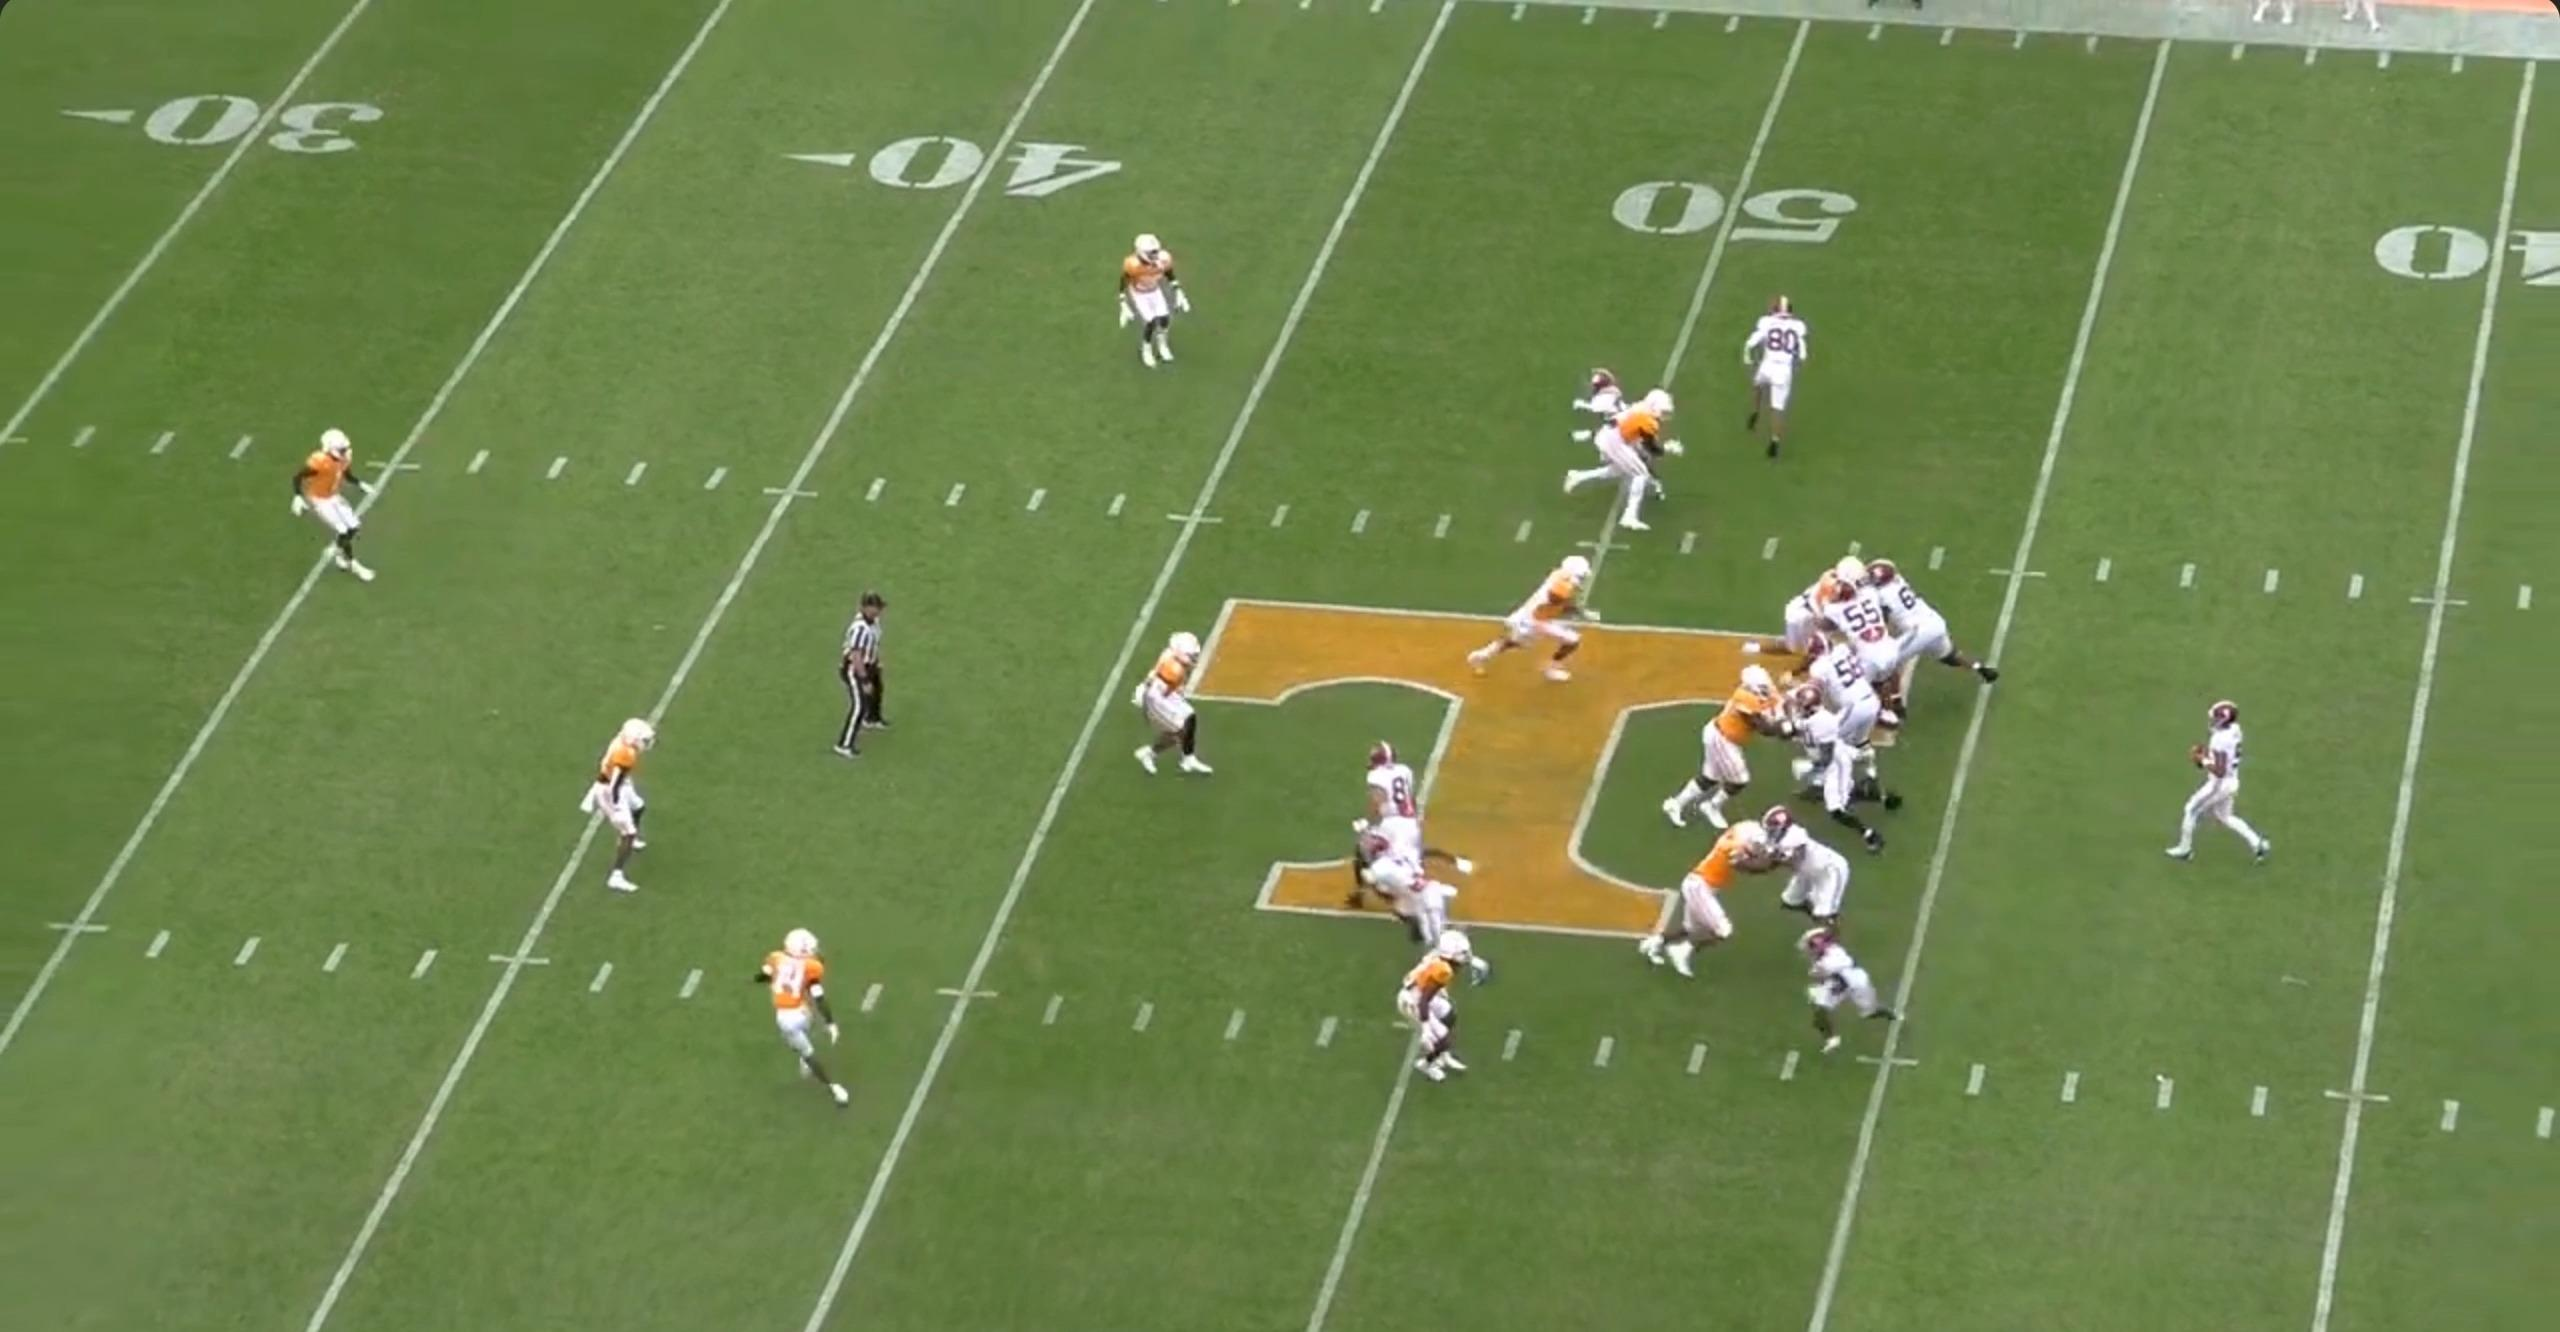defense: (1664, 667, 1800, 839), (1642, 824, 1778, 987), (1465, 548, 1608, 691), (1566, 384, 1683, 537), (762, 921, 857, 1107), (291, 423, 393, 589), (576, 707, 652, 899), (1123, 630, 1211, 787), (1402, 933, 1488, 1088), (1751, 548, 1869, 662), (1119, 227, 1200, 372)
oline: (1769, 682, 1900, 860), (1864, 552, 2005, 684), (1788, 640, 1890, 804), (1810, 597, 1912, 757), (1749, 812, 1857, 955)
qb: (2162, 692, 2274, 870)
ref: (821, 596, 892, 773)
skill: (1358, 828, 1490, 983), (1785, 926, 1898, 1056), (1732, 286, 1815, 464), (1349, 741, 1429, 911), (1568, 364, 1629, 454)
